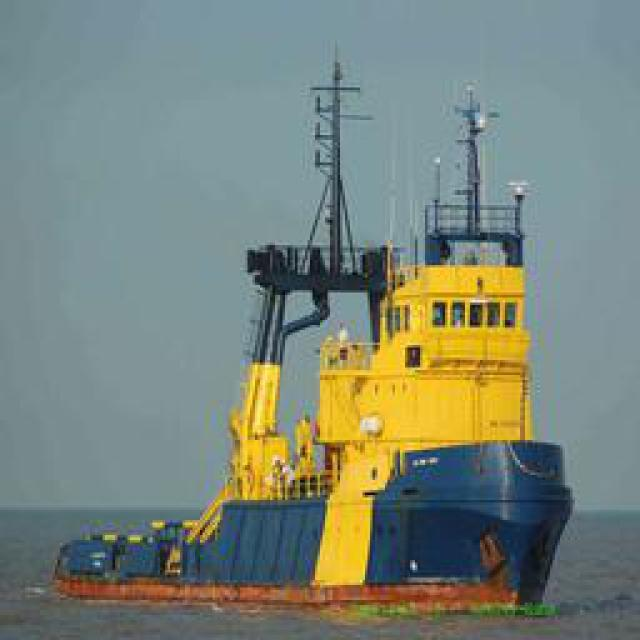Ship: (77, 29, 565, 622)
